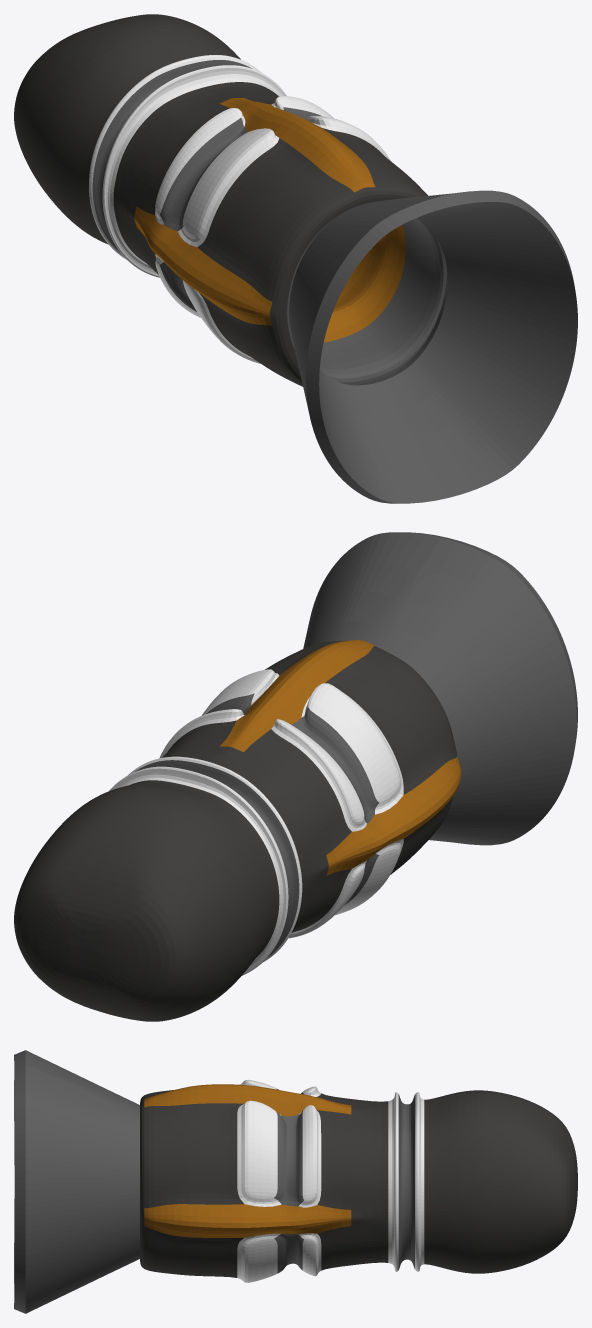
File: arm_cannnon_suck.fbx
3 views of the same model, one above another, from view 1: azimuth 30°, elevation 25°; view 2: azimuth 150°, elevation 25°; view 3: azimuth 270°, elevation 25° (orthographic). The views are drawn at different scales.
Parts seen in each view (by area): view 1: Cylinder.001, Cylinder.002; view 2: Cylinder.001, Cylinder.002; view 3: Cylinder.001, Cylinder.002.
Boxes of the visible parts, left/top/right/bottom form: Cylinder.001: left=14, top=14, right=446, bottom=386; Cylinder.002: left=289, top=190, right=577, bottom=503; Cylinder.001: left=14, top=640, right=461, bottom=1021; Cylinder.002: left=303, top=532, right=577, bottom=845; Cylinder.001: left=140, top=1079, right=577, bottom=1282; Cylinder.002: left=14, top=1050, right=139, bottom=1313.
Bounding box in the file's own units: 17.77 × 18.95 × 41.32.
